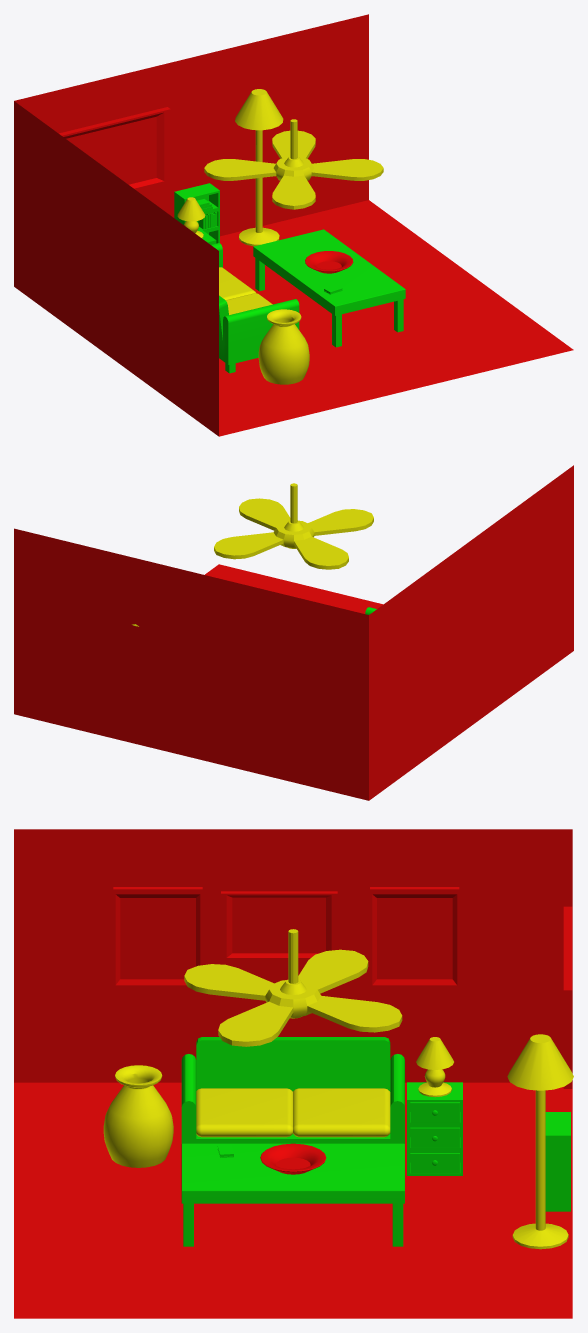
The model's file is Room.fbx.
3 views of the same model, one above another, from view 1: azimuth 30°, elevation 25°; view 2: azimuth 150°, elevation 25°; view 3: azimuth 270°, elevation 25° (orthographic). The views are drawn at different scales.
Visible parts, largest first — view 1: polySurface9, pCube57, pCube51; view 2: polySurface9, pCube57; view 3: polySurface9, pCube51, pCube57.
Boxes of the visible parts, box(x1,y1,x2,y2) form: polySurface9: box(14, 14, 573, 436); pCube57: box(177, 89, 383, 384); pCube51: box(174, 183, 405, 373); polySurface9: box(14, 465, 573, 800); pCube57: box(132, 483, 373, 626); polySurface9: box(14, 829, 572, 1318); pCube51: box(181, 1037, 570, 1246); pCube57: box(103, 929, 573, 1249).
Size of the model in its own units: 20 by 10.64 by 20.05.
